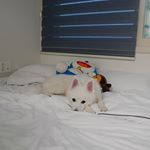puppy: (41, 73, 113, 117)
